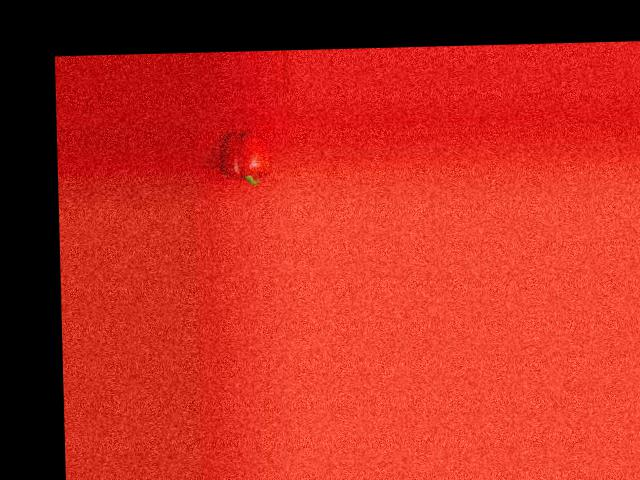bell_pepper: (216, 127, 270, 188)
